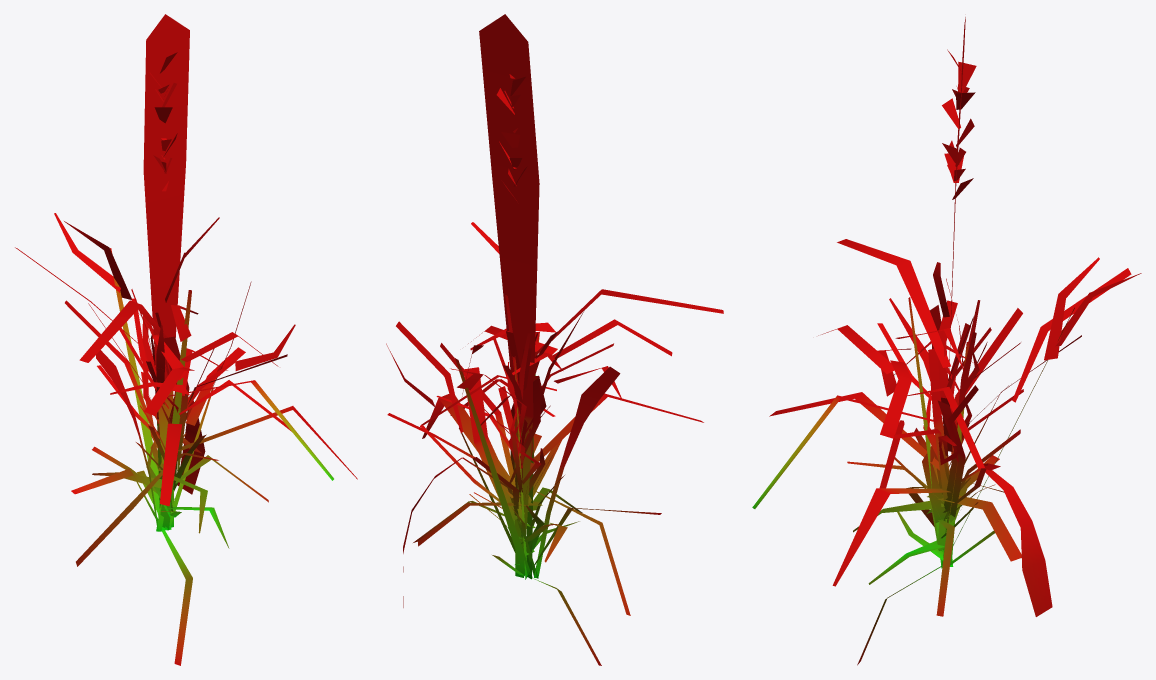
The model's file is Var5_LOD3.fbx.
The picture shows the model from 3 angles, left to right: view 1: azimuth 30°, elevation 25°; view 2: azimuth 150°, elevation 25°; view 3: azimuth 270°, elevation 25°; orthographic projection. The views are drawn at different scales.
Visible parts, largest first — view 1: _a182_Var5_LOD3; view 2: _a182_Var5_LOD3; view 3: _a182_Var5_LOD3.
Boxes of the visible parts, <box> form: _a182_Var5_LOD3: <box>15,14,357,665</box>; _a182_Var5_LOD3: <box>386,14,723,665</box>; _a182_Var5_LOD3: <box>752,17,1141,665</box>.
Bounding box in the file's own units: 23.05 × 48.92 × 25.78.
